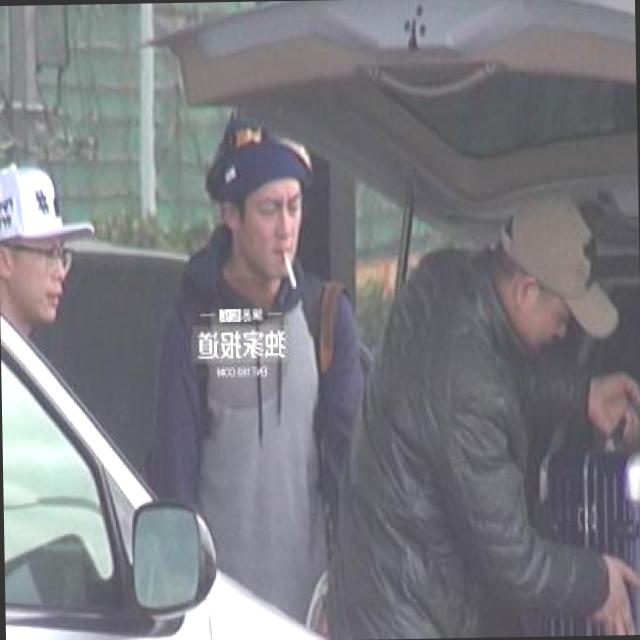smoke: (278, 235, 300, 299)
